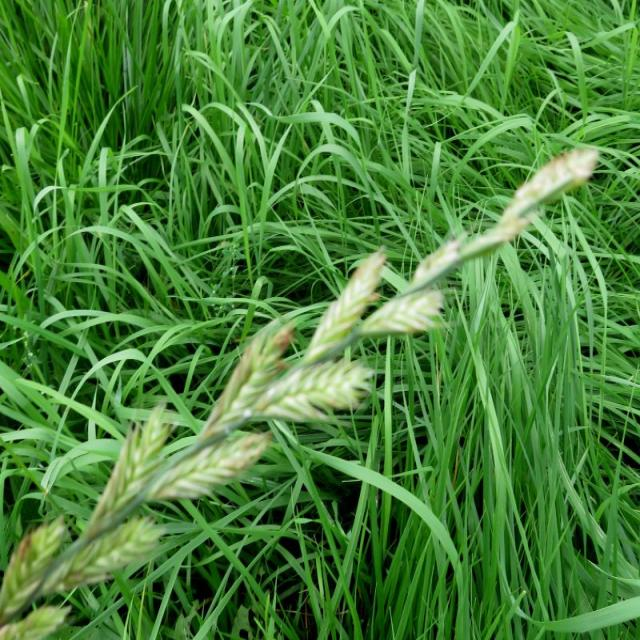Lolium: (0, 146, 597, 640)
